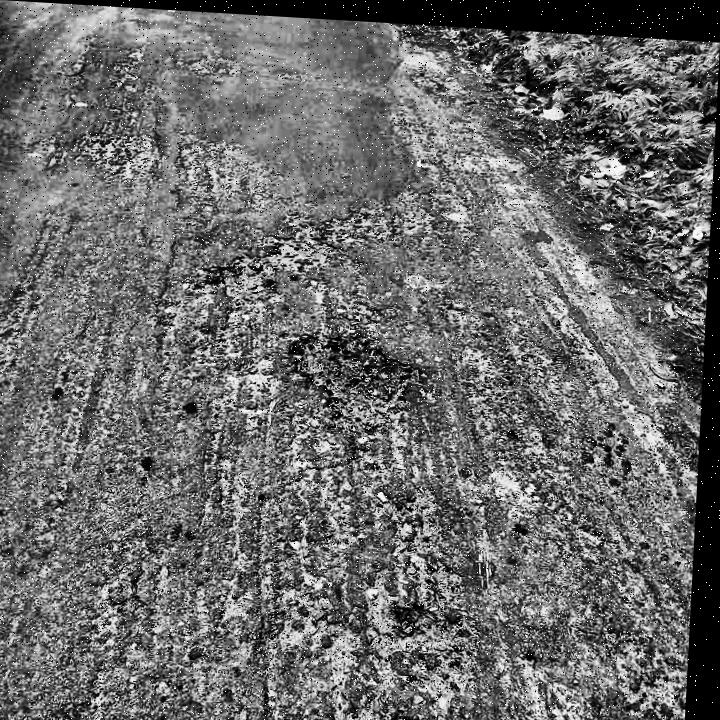pothole: (286, 317, 424, 426), (212, 211, 337, 303), (397, 596, 457, 641)
